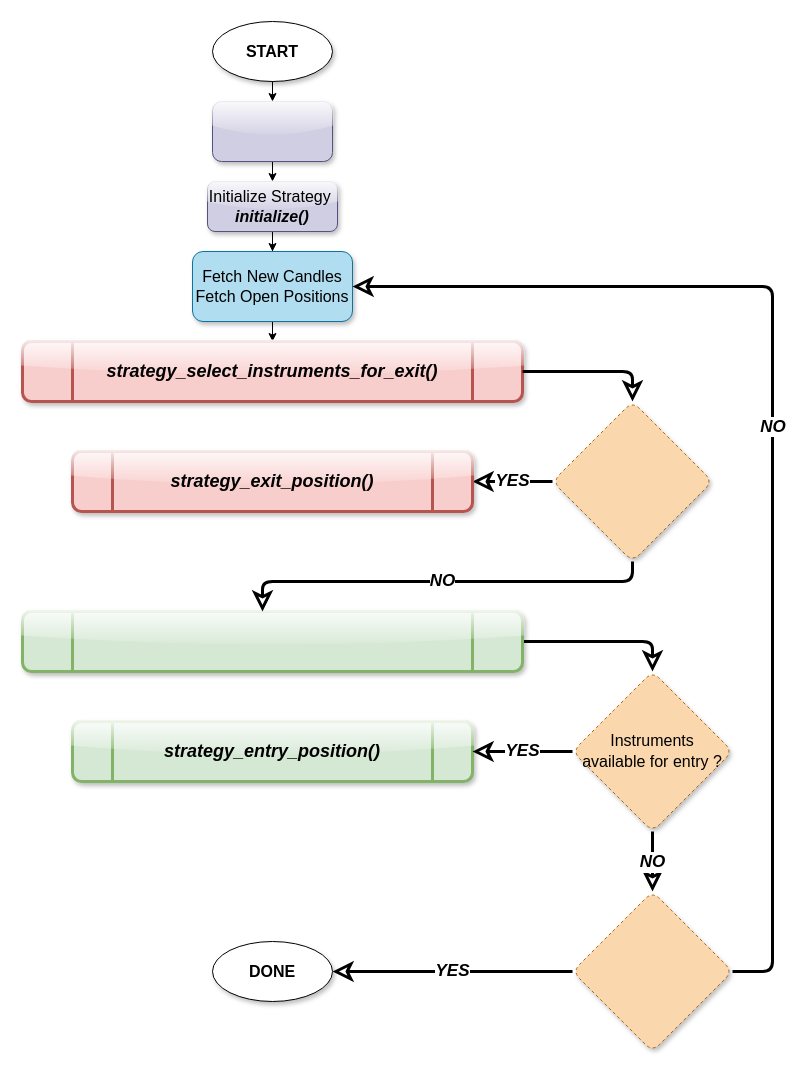
The diagram is 805 pixels wide and 1076 high, and some of its shapes have lost their labels. Each missing label, with the centre of its shape:
"Create Strategy __init__()" belongs at [273,132].
"Instruments available for exit ?" belongs at [633,482].
"strategy_select_instruments_for_entry()" belongs at [273,643].
"Trading Session Completed ?" belongs at [653,972].
